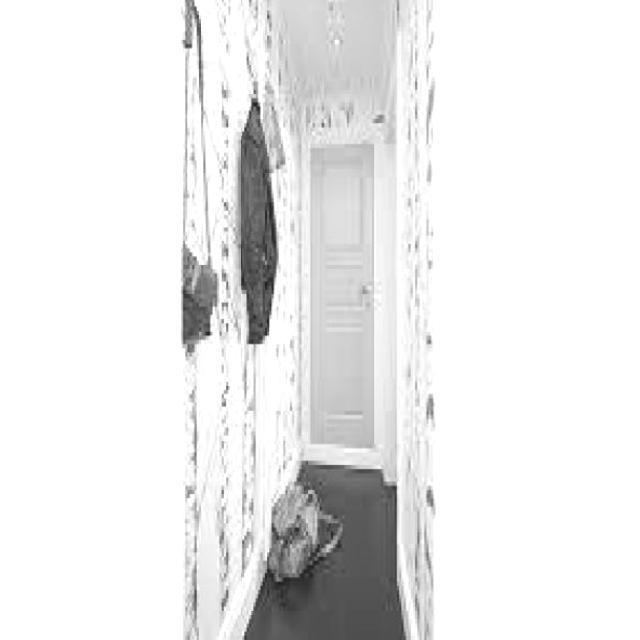door: (308, 142, 375, 449)
